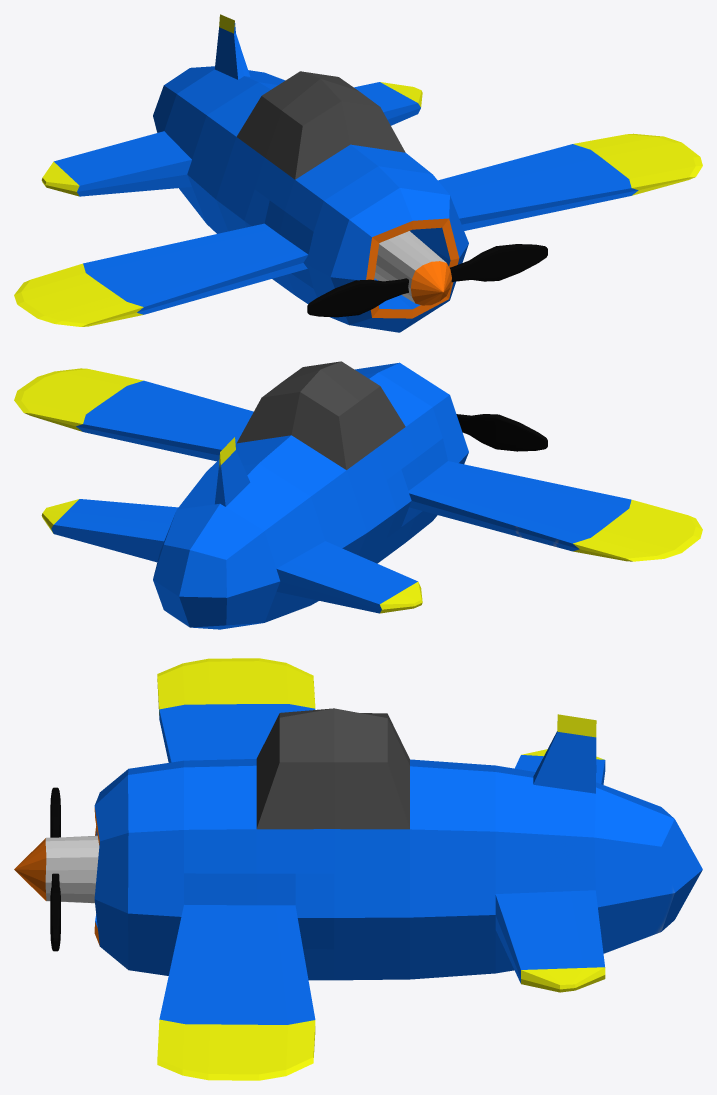
The picture shows the model from 3 angles, top to bottom: view 1: azimuth 30°, elevation 25°; view 2: azimuth 150°, elevation 25°; view 3: azimuth 270°, elevation 25°; orthographic projection. The views are drawn at different scales.
Parts seen in each view (by area): view 1: Plane 1.0 painted, Propellor; view 2: Plane 1.0 painted, Propellor; view 3: Plane 1.0 painted, Propellor.
Part boxes in pixels (x1,y1,x2,y2): Plane 1.0 painted: (14, 14, 702, 332); Propellor: (307, 244, 547, 317); Plane 1.0 painted: (14, 361, 702, 629); Propellor: (456, 414, 547, 451); Plane 1.0 painted: (14, 658, 702, 1080); Propellor: (50, 787, 60, 951).
Bounding box in the file's own units: 799 × 234 × 551.
2 materials, 1 textured.
